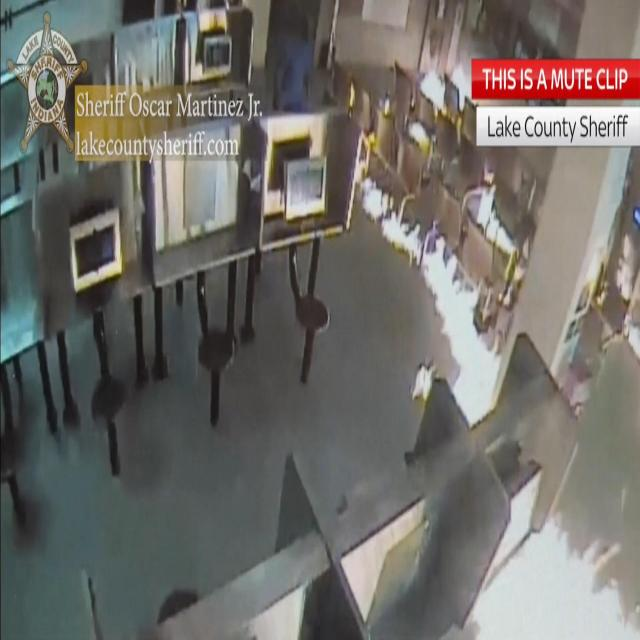fire: (470, 512, 639, 640), (421, 236, 502, 424), (360, 175, 422, 261), (413, 362, 435, 399)
